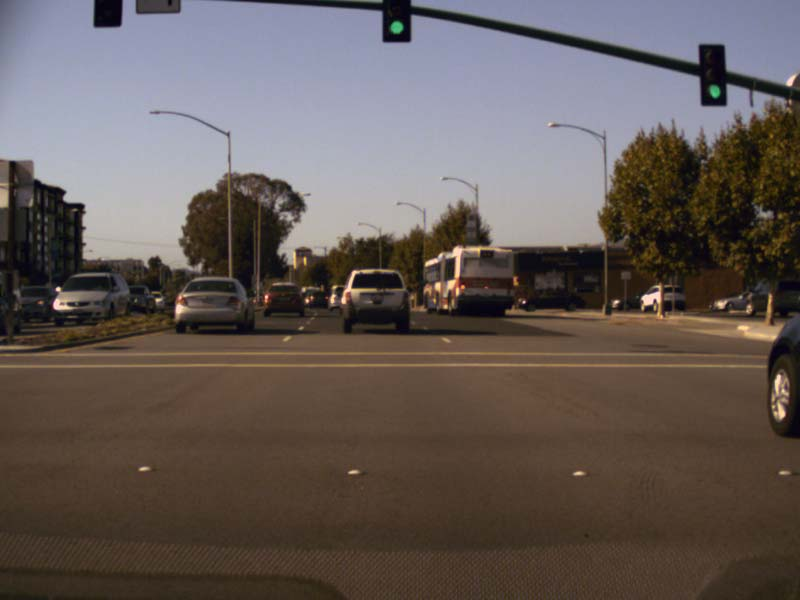Green: (700, 44, 725, 104)
